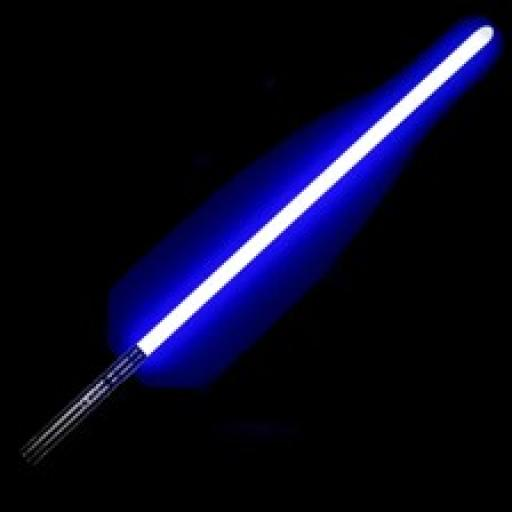lightsaber: (21, 27, 498, 472)
